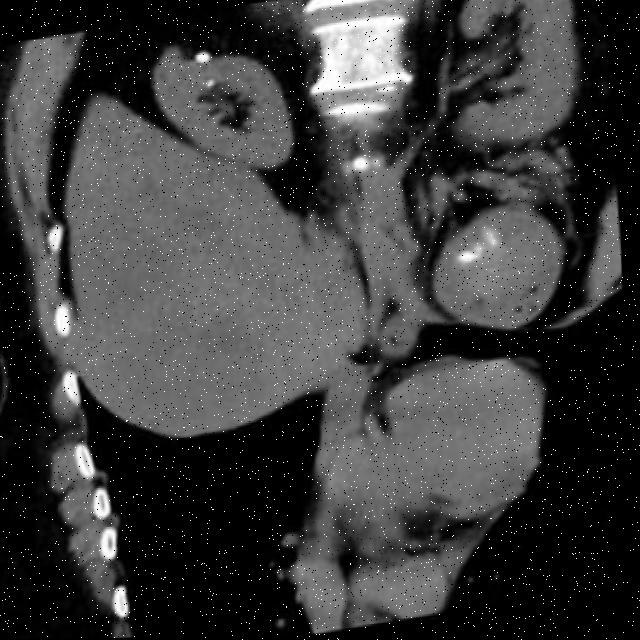Tas_Var: (190, 47, 215, 68), (200, 77, 220, 91)
